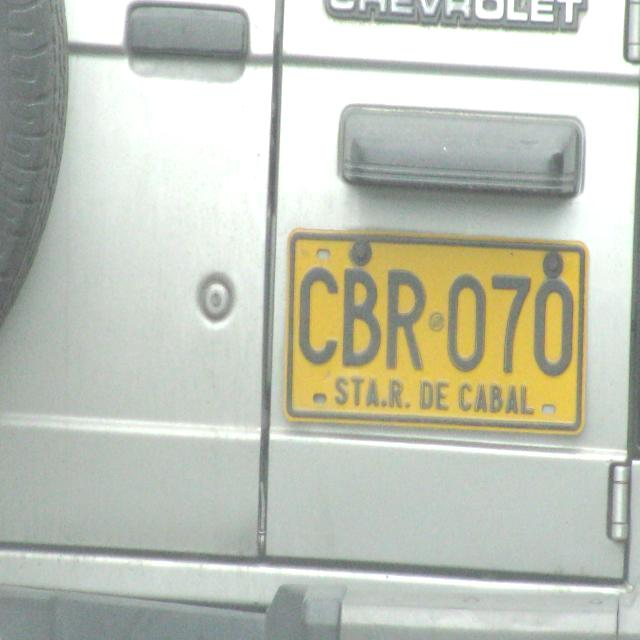placa: (282, 222, 592, 440)
